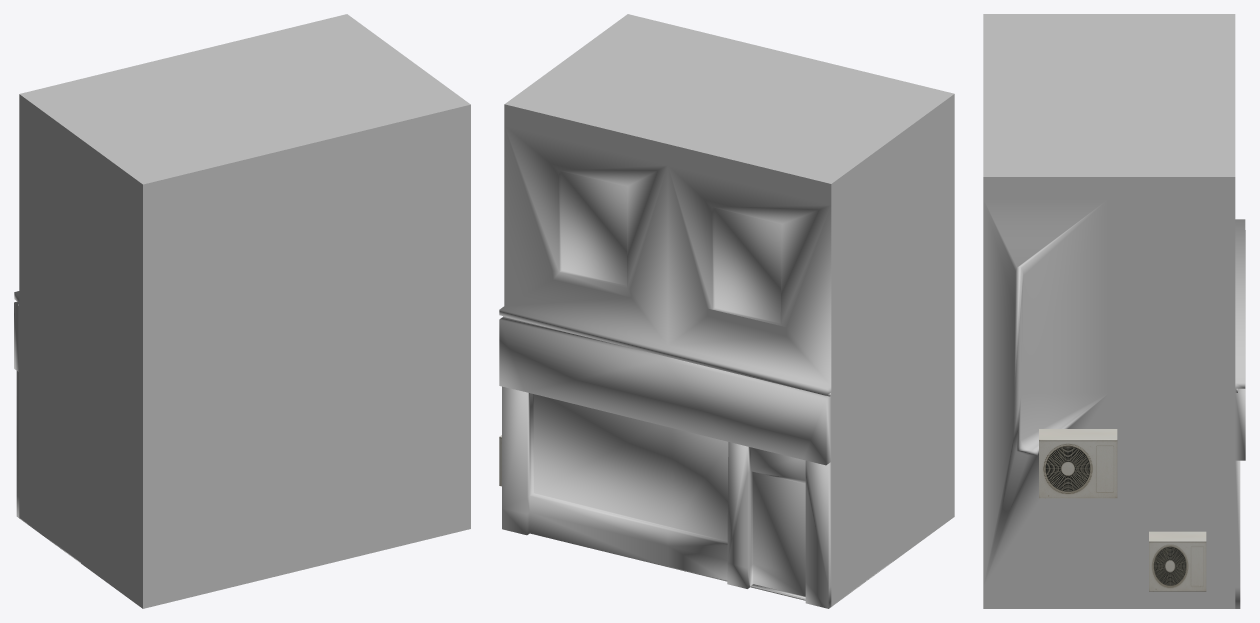
The model's file is LowpolyUrbanStore.fbx.
3 renders of one model, left to right at view 1: azimuth 30°, elevation 25°; view 2: azimuth 150°, elevation 25°; view 3: azimuth 270°, elevation 25°, orthographic. The views are drawn at different scales.
Parts seen in each view (by area): view 1: Store; view 2: Store; view 3: Store.
Part boxes in pixels (left/top/right/bottom): Store: left=14, top=14, right=470, bottom=608; Store: left=499, top=14, right=954, bottom=608; Store: left=983, top=14, right=1245, bottom=608.
Bounding box in the file's own units: 756 × 877 × 483.
